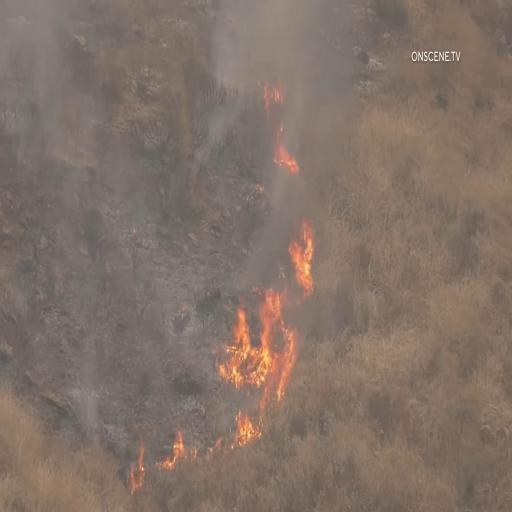fire: (222, 248, 296, 422), (260, 50, 302, 178), (226, 387, 262, 459), (282, 230, 316, 306), (157, 419, 192, 473), (122, 460, 149, 499)
